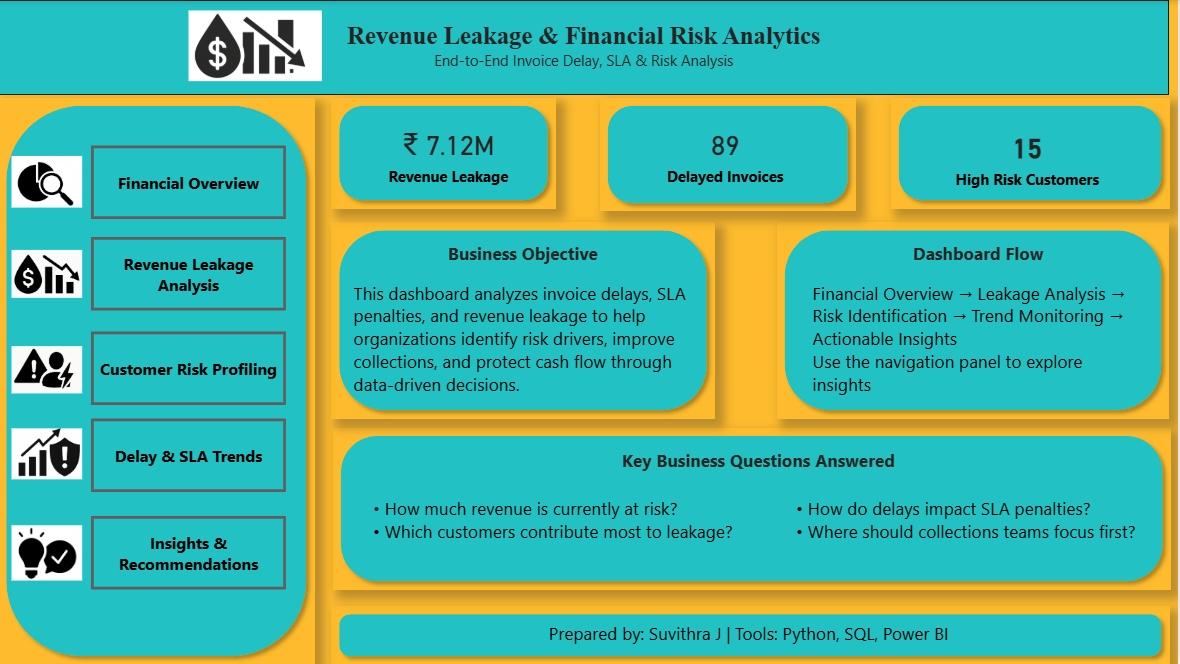

Layout of this report page (visuals, bound fields, positions):
{"tool":"powerbi","page":{"name":"Home Page","canvas":[1280,720],"ordinal":0},"visuals":[{"type":"shape","box":[0,105.7,343.2,614.8],"z":0},{"type":"shape","box":[361.1,240.7,416.4,213.1],"z":1000},{"type":"shape","box":[652.2,105.7,278.1,123.6],"z":2000},{"type":"shape","box":[967.8,105.7,302.5,120.4],"z":3000},{"type":"shape","box":[361.1,105.7,244,120.4],"z":4000},{"type":"shape","box":[361.1,657.1,909.2,63.4],"z":5000},{"type":"textbox","box":[0,0,1270.3,102.5],"z":6000},{"type":"actionButton","title":"Financial Overview","box":[100.8,157.8,211.5,79.7],"z":7000},{"type":"actionButton","title":"Financial Overview","box":[100.8,257,211.5,79.7],"z":8000},{"type":"actionButton","title":"Financial Overview","box":[100.8,359.5,211.5,79.7],"z":9000},{"type":"actionButton","title":"Financial Overview","box":[100.8,453.8,211.5,79.7],"z":10000},{"type":"actionButton","title":"Financial Overview","box":[100.8,559.5,211.5,79.7],"z":11000},{"type":"card","fields":{"Values":["revenue_processed.Delayed Invoices"]},"box":[675,118.7,226.1,94.3],"z":12000},{"type":"textbox","box":[380.6,257,377.4,182.2],"z":13000},{"type":"textbox","box":[380.6,668.5,866.9,35.8],"z":14000},{"type":"shape","box":[844.2,240.7,426.2,213.1],"z":15000},{"type":"textbox","box":[878.3,257,369.2,182.2],"z":16000},{"type":"card","fields":{"Values":["revenue_processed.High Risk Customers"]},"box":[997.1,125.2,237.5,87.8],"z":17000},{"type":"card","fields":{"Values":["revenue_processed.Revenue Leakage"]},"box":[388.7,118.7,198.4,94.3],"z":18000},{"type":"shape","box":[362.7,463.6,909.2,175.7],"z":19000},{"type":"textbox","box":[401.8,533.5,458.7,79.7],"z":20000},{"type":"textbox","box":[860.4,533.5,387.1,79.7],"z":21000},{"type":"textbox","box":[401.8,481.5,845.8,40.7],"z":22000},{"type":"image","box":[206.6,0,144.8,99.2],"z":22001},{"type":"image","box":[14.6,157.8,76.4,78.1],"z":22002},{"type":"image","box":[14.6,257,76.4,79.7],"z":22003},{"type":"image","box":[14.6,366,76.4,69.9],"z":22004},{"type":"image","box":[14.6,453.8,76.4,76.4],"z":22005},{"type":"image","box":[14.6,559.5,76.4,79.7],"z":22006}]}

Visuals, with their boxes in screenshot pixels (x1, y1, x2, y2), scaled from the page's 1280x720 canvas onto the 1180x664 screenshot:
shape: Rect(0, 97, 316, 663)
shape: Rect(333, 222, 717, 419)
shape: Rect(601, 97, 858, 211)
shape: Rect(892, 97, 1171, 209)
shape: Rect(333, 97, 558, 209)
shape: Rect(333, 606, 1171, 663)
textbox: Rect(0, 0, 1171, 95)
"Financial Overview" actionButton: Rect(93, 146, 288, 219)
"Financial Overview" actionButton: Rect(93, 237, 288, 311)
"Financial Overview" actionButton: Rect(93, 332, 288, 405)
"Financial Overview" actionButton: Rect(93, 419, 288, 492)
"Financial Overview" actionButton: Rect(93, 516, 288, 589)
card - revenue_processed.Delayed Invoices: Rect(622, 109, 831, 196)
textbox: Rect(351, 237, 699, 405)
textbox: Rect(351, 617, 1150, 650)
shape: Rect(778, 222, 1171, 419)
textbox: Rect(810, 237, 1150, 405)
card - revenue_processed.High Risk Customers: Rect(919, 115, 1138, 196)
card - revenue_processed.Revenue Leakage: Rect(358, 109, 541, 196)
shape: Rect(334, 428, 1173, 590)
textbox: Rect(370, 492, 793, 566)
textbox: Rect(793, 492, 1150, 566)
textbox: Rect(370, 444, 1150, 482)
image: Rect(190, 0, 324, 91)
image: Rect(13, 146, 84, 218)
image: Rect(13, 237, 84, 311)
image: Rect(13, 338, 84, 402)
image: Rect(13, 419, 84, 489)
image: Rect(13, 516, 84, 589)
